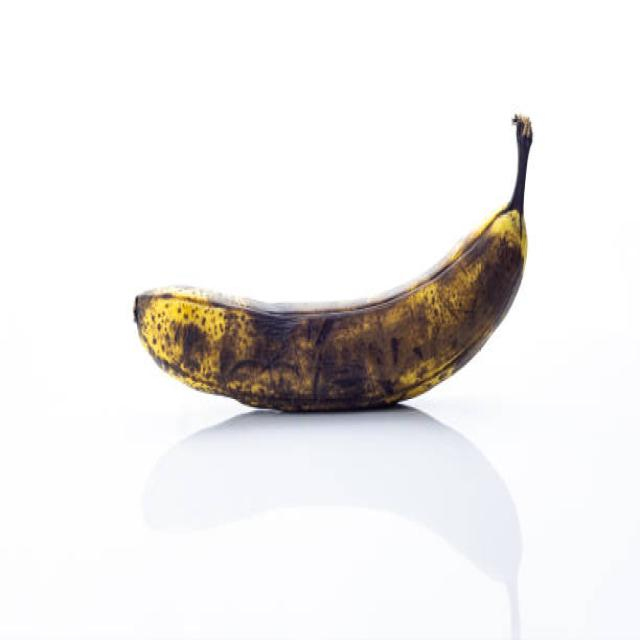overripe: (134, 112, 536, 420)
